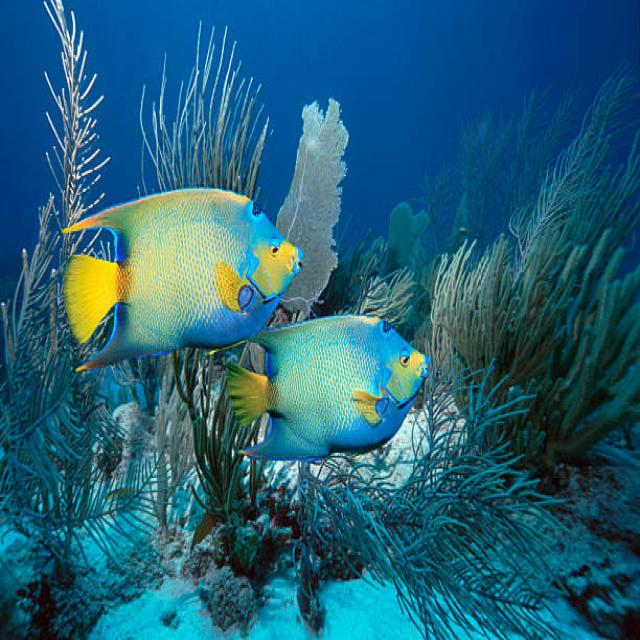AngelFish: (62, 193, 303, 373), (228, 318, 428, 464)
